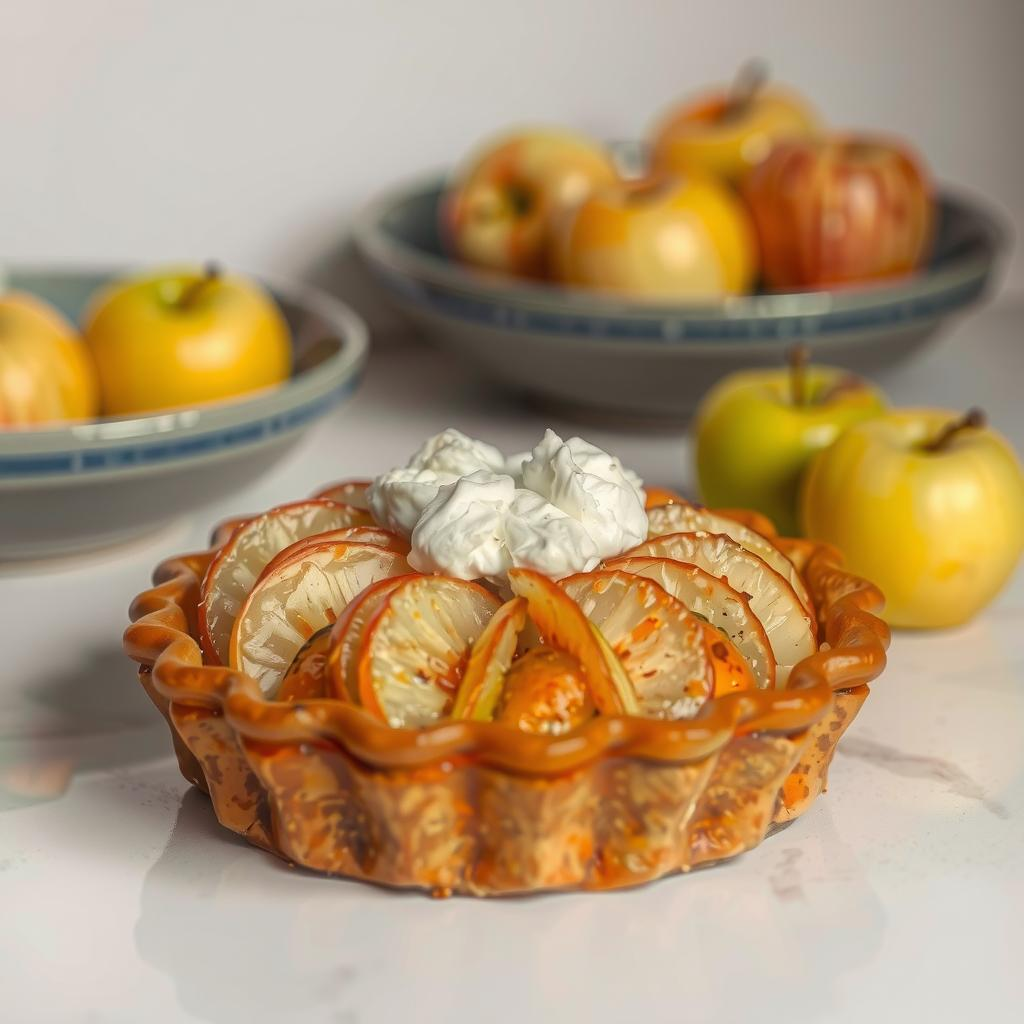pie: (114, 430, 910, 906)
